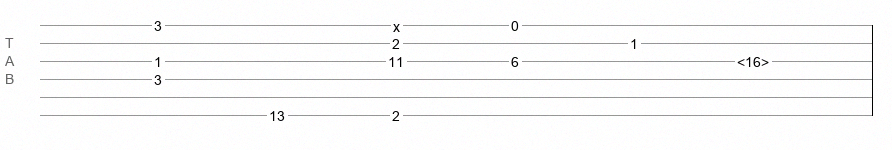0: (511, 18, 519, 28)
1: (154, 54, 162, 64), (630, 36, 638, 46)
11: (388, 54, 404, 64)
13: (269, 108, 285, 118)
2: (392, 108, 400, 118), (392, 36, 400, 46)
3: (154, 18, 162, 28), (154, 72, 162, 82)
6: (511, 54, 519, 64)
harmonic: (737, 54, 769, 64)
x: (393, 19, 400, 27)
